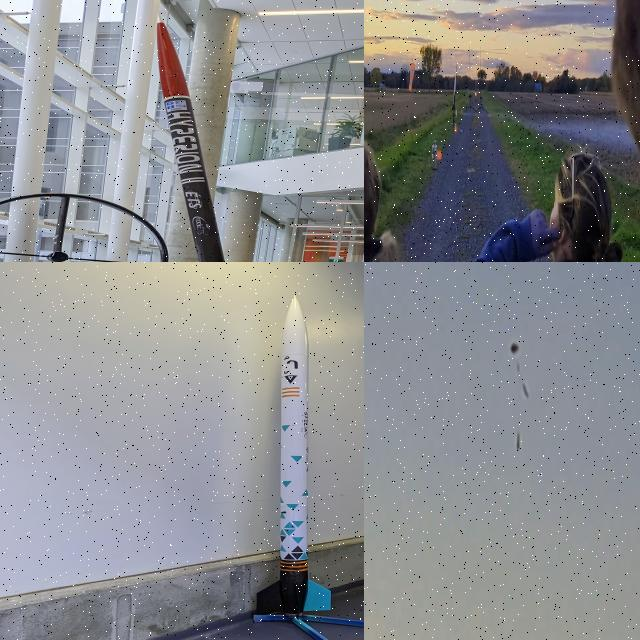Rocket: (256, 294, 332, 621), (157, 12, 225, 262), (452, 73, 456, 112), (515, 431, 522, 453)
